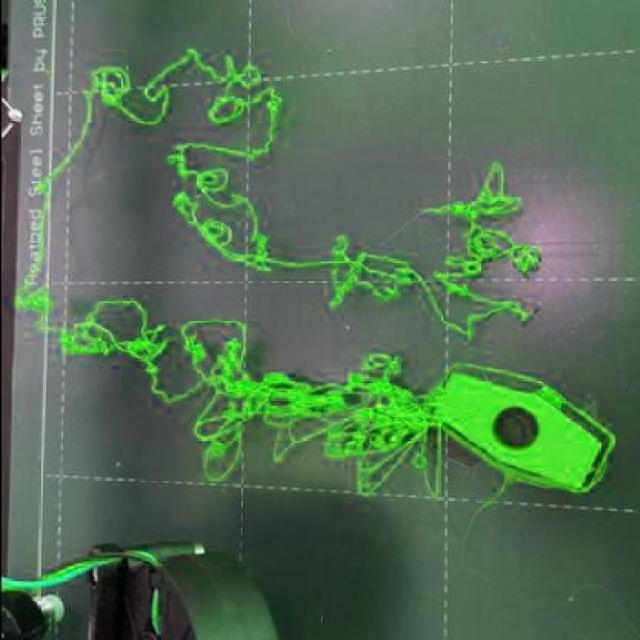Spaghetti: (9, 41, 545, 513)
